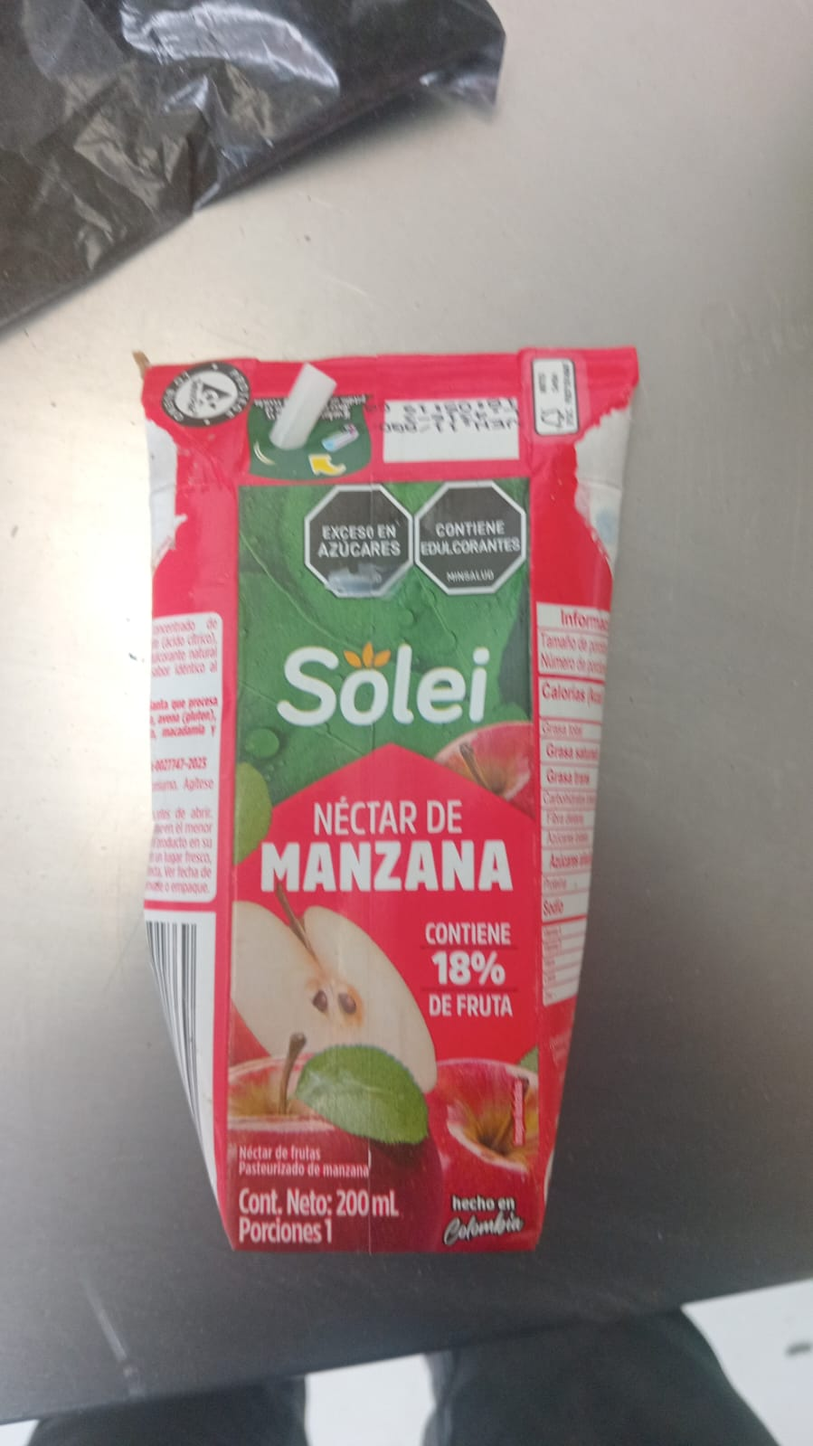Carton: (143, 347, 645, 1252)
